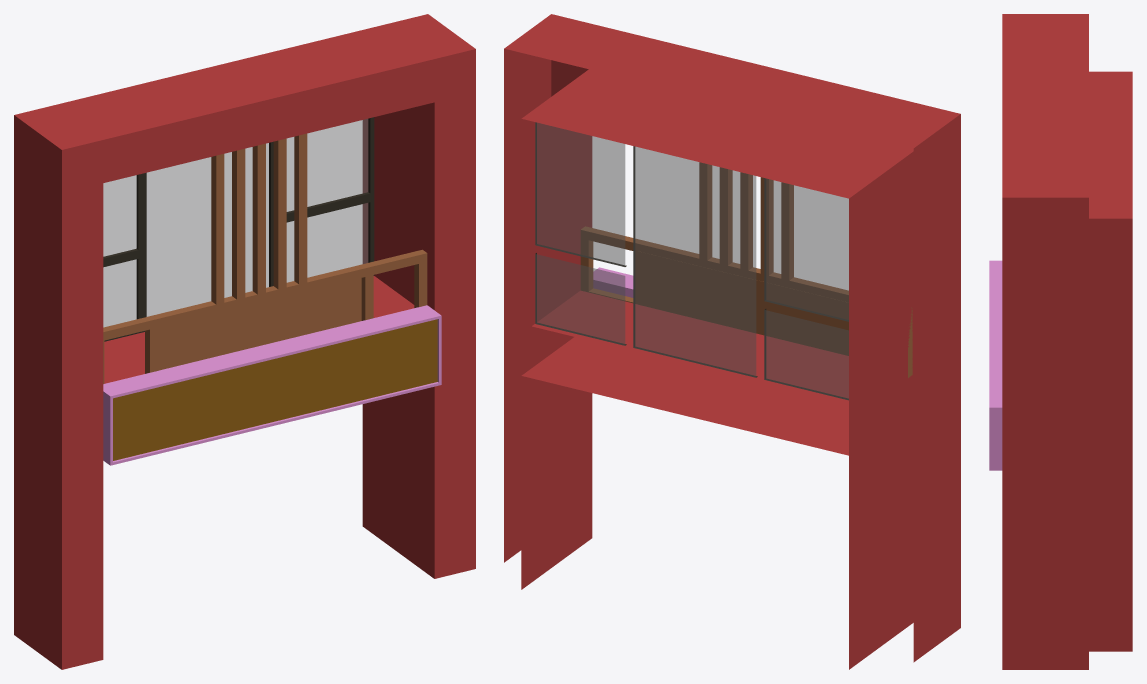
The model's file is SoupRestaurant.FBX.
The picture shows the model from 3 angles, left to right: view 1: azimuth 30°, elevation 25°; view 2: azimuth 150°, elevation 25°; view 3: azimuth 270°, elevation 25°; orthographic projection. The views are drawn at different scales.
Visible parts, largest first — view 1: SoupRestaurant; view 2: SoupRestaurant; view 3: SoupRestaurant.
Part boxes in pixels (x1,y1,x2,y2): SoupRestaurant: (14, 14, 475, 669); SoupRestaurant: (504, 14, 960, 669); SoupRestaurant: (989, 14, 1132, 669).
Size of the model in its own units: 500 by 600 by 165.
